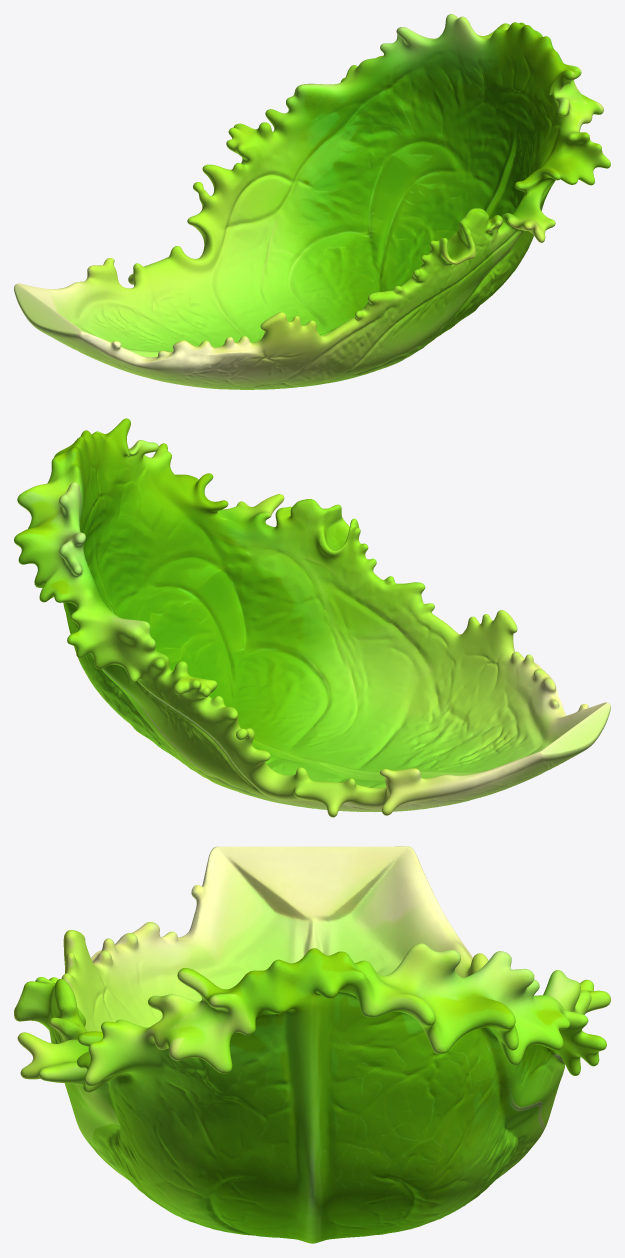
File: One_Slide_Lettuce.glb
3 renders of one model, top to bottom at view 1: azimuth 30°, elevation 25°; view 2: azimuth 150°, elevation 25°; view 3: azimuth 270°, elevation 25°, orthographic. The views are drawn at different scales.
Size of the model in its own units: 1.9 by 0.9675 by 1.25.
1 material, 1 textured.
